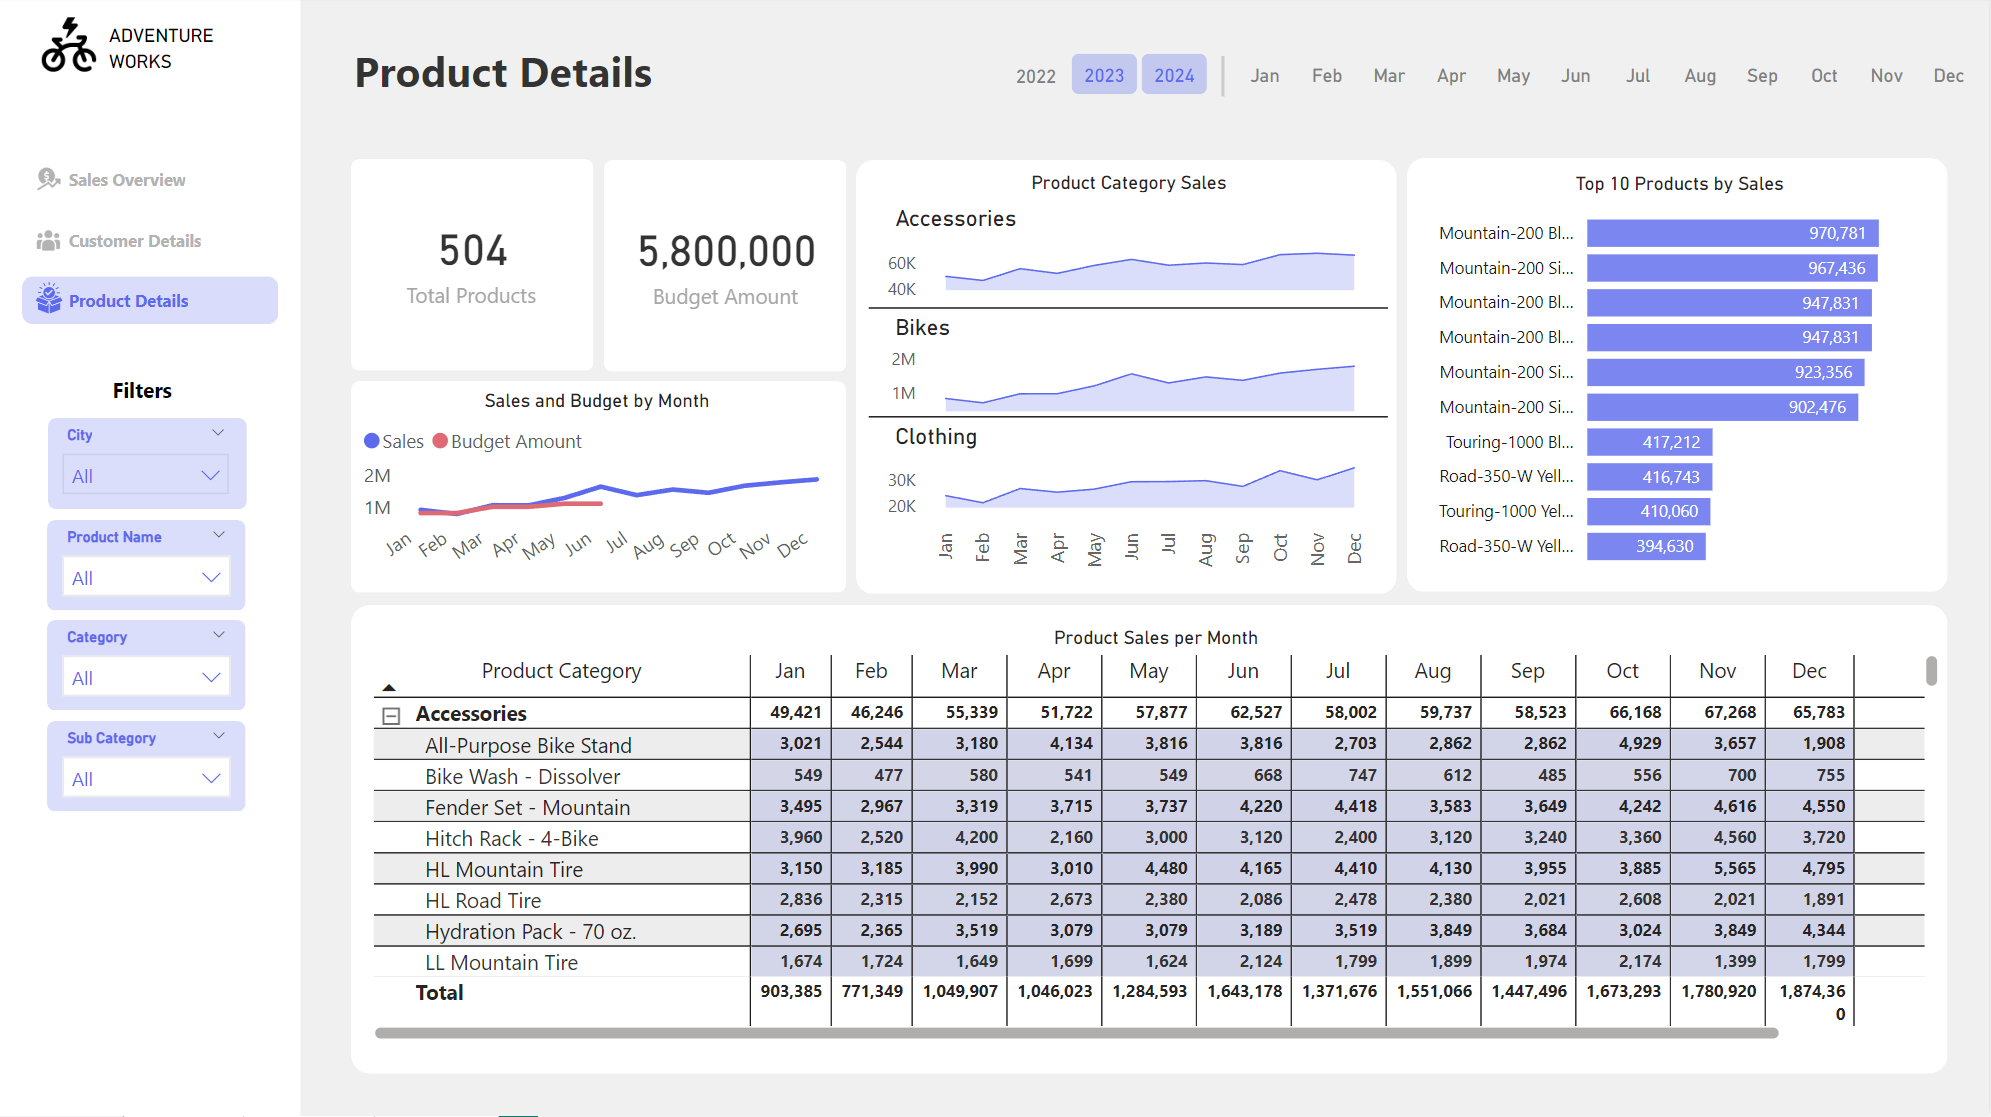

Layout of this report page (visuals, bound fields, positions):
{"tool":"powerbi","page":{"name":"Product Details","canvas":[1280,720],"ordinal":2},"visuals":[{"type":"shape","box":[389,105.1,156,136.4],"z":0},{"type":"shape","box":[551.6,105.1,347.9,279.4],"z":1000},{"type":"shape","box":[226.5,104.4,156,136.4],"z":2000},{"type":"shape","box":[226.5,247.4,318.5,136.4],"z":3000},{"type":"shape","box":[906,103.8,347.9,279.4],"z":4000},{"type":"shape","box":[226.5,391,1027.4,301.6],"z":5000},{"type":"BBED0A4D4D8D44CE93CF2DAFADEE466C","fields":{"actual":["FACT_InternetSales_CSV.Sales"],"target1":["FACT_Budget.Budget Amount"],"target2":["FACT_Budget.Sales - Budget"]},"box":[554.9,231.2,12.3,12.3],"z":6000},{"type":"lineChart","title":"Sales and Budget by Month","fields":{"Category":["DIM_Calendar_CSV.MonthShort"],"Y":["Key Measures.Sales","Key Measures.Budget Amount"]},"box":[229.1,252.6,311.4,129.2],"z":7000},{"type":"advanceCardE03760C5AB684758B56AA29F9E6C257B","fields":{"mainMeasure":["Count(DIM_Products_CSV.ProductName)"]},"box":[225.8,112.9,157.3,119.4],"z":9000},{"type":"pivotTable","title":"Product Sales per Month","fields":{"Rows":["DIM_Products_CSV.ProductCategory","DIM_Products_CSV.ProductName"],"Columns":["DIM_Calendar_CSV.MonthShort"],"Values":["Key Measures.Sales"]},"box":[229.1,392.9,1018.9,294.4],"z":10000},{"type":"barChart","title":"Top 10 Products by Sales","fields":{"Y":["Key Measures.Sales"],"Category":["DIM_Products_CSV.ProductName"]},"box":[906,104.4,347.9,277.4],"z":11000},{"type":"lineChart","title":"Product Category Sales","fields":{"Y":["Key Measures.Sales"],"Category":["DIM_Calendar_CSV.MonthShort"],"Rows":["DIM_Products_CSV.ProductCategory"]},"box":[554.8,112.9,344.6,270.2],"z":12000},{"type":"advanceCardE03760C5AB684758B56AA29F9E6C257B","fields":{"mainMeasure":["Key Measures.Budget Amount"]},"box":[389,112.9,156.7,120.8],"z":13000},{"type":"shape","box":[0,0,193.9,720],"z":14000},{"type":"shape","box":[31.1,466.1,127.8,58.4],"z":15000},{"type":"shape","box":[31.1,401,127.8,58.4],"z":16000},{"type":"shape","box":[31.1,336.5,127.8,58.4],"z":17000},{"type":"slicer","fields":{"Values":["DIM_Customers_CSV.CustomerCity"]},"box":[31.1,270.7,127.2,58.4],"z":18000},{"type":"slicer","fields":{"Values":["DIM_Products_CSV.SubCategory"]},"box":[30.9,466,127.6,50],"z":19000},{"type":"slicer","fields":{"Values":["DIM_Products_CSV.ProductCategory"]},"box":[30.9,401.2,127.6,50],"z":20000},{"type":"slicer","fields":{"Values":["DIM_Products_CSV.ProductName"]},"box":[30.9,336.3,127.6,50],"z":21000},{"type":"pageNavigator","box":[14.7,101.6,165.3,111.8],"z":23000},{"type":"image","box":[22.4,7.2,44.8,47.2],"z":25000},{"type":"textbox","box":[65.6,9.6,107.2,51.2],"z":26000},{"type":"image","box":[18.9,104.4,26.8,24.8],"z":28000},{"type":"textbox","box":[223.2,24,349.6,60],"z":29000},{"type":"advancedSlicerVisual","fields":{"Values":["DIM_Calendar_CSV.MonthShort"]},"box":[790.4,31,489.6,36.8],"z":30000},{"type":"advancedSlicerVisual","fields":{"Values":["DIM_Calendar_CSV.Year"]},"box":[640,31.8,142.4,36.8],"z":31000},{"type":"shape","box":[763.2,38.2,48.8,26.4],"z":32000},{"type":"shape","box":[31.3,270.9,127.9,58.7],"z":32001},{"type":"textbox","box":[24.9,238.8,133.9,38.7],"z":32002},{"type":"image","box":[19,144,24.6,25.8],"z":32003},{"type":"image","box":[17,176.9,30.7,33.3],"z":32004}]}

Visuals, with their boxes on the page's 1280x720 design canvas (x1, y1, x2, y2). These are canvas units, not pixel positions in the 1991x1117 screenshot, which may show the page scaled, cropped or inside an application window:
shape: select_region(389, 105, 545, 242)
shape: select_region(552, 105, 900, 384)
shape: select_region(226, 104, 382, 241)
shape: select_region(226, 247, 545, 384)
shape: select_region(906, 104, 1254, 383)
shape: select_region(226, 391, 1254, 693)
BBED0A4D4D8D44CE93CF2DAFADEE466C - FACT_InternetSales_CSV.Sales x FACT_Budget.Budget Amount: select_region(555, 231, 567, 244)
"Sales and Budget by Month" lineChart: select_region(229, 253, 540, 382)
advanceCardE03760C5AB684758B56AA29F9E6C257B - Count(DIM_Products_CSV.ProductName): select_region(226, 113, 383, 232)
"Product Sales per Month" pivotTable: select_region(229, 393, 1248, 687)
"Top 10 Products by Sales" barChart: select_region(906, 104, 1254, 382)
"Product Category Sales" lineChart: select_region(555, 113, 899, 383)
advanceCardE03760C5AB684758B56AA29F9E6C257B - Key Measures.Budget Amount: select_region(389, 113, 546, 234)
shape: select_region(0, 0, 194, 720)
shape: select_region(31, 466, 159, 524)
shape: select_region(31, 401, 159, 459)
shape: select_region(31, 336, 159, 395)
slicer - DIM_Customers_CSV.CustomerCity: select_region(31, 271, 158, 329)
slicer - DIM_Products_CSV.SubCategory: select_region(31, 466, 158, 516)
slicer - DIM_Products_CSV.ProductCategory: select_region(31, 401, 158, 451)
slicer - DIM_Products_CSV.ProductName: select_region(31, 336, 158, 386)
pageNavigator: select_region(15, 102, 180, 213)
image: select_region(22, 7, 67, 54)
textbox: select_region(66, 10, 173, 61)
image: select_region(19, 104, 46, 129)
textbox: select_region(223, 24, 573, 84)
advancedSlicerVisual - DIM_Calendar_CSV.MonthShort: select_region(790, 31, 1280, 68)
advancedSlicerVisual - DIM_Calendar_CSV.Year: select_region(640, 32, 782, 69)
shape: select_region(763, 38, 812, 65)
shape: select_region(31, 271, 159, 330)
textbox: select_region(25, 239, 159, 278)
image: select_region(19, 144, 44, 170)
image: select_region(17, 177, 48, 210)
